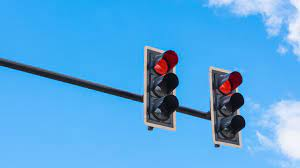red: (209, 66, 244, 148), (144, 46, 177, 131)
